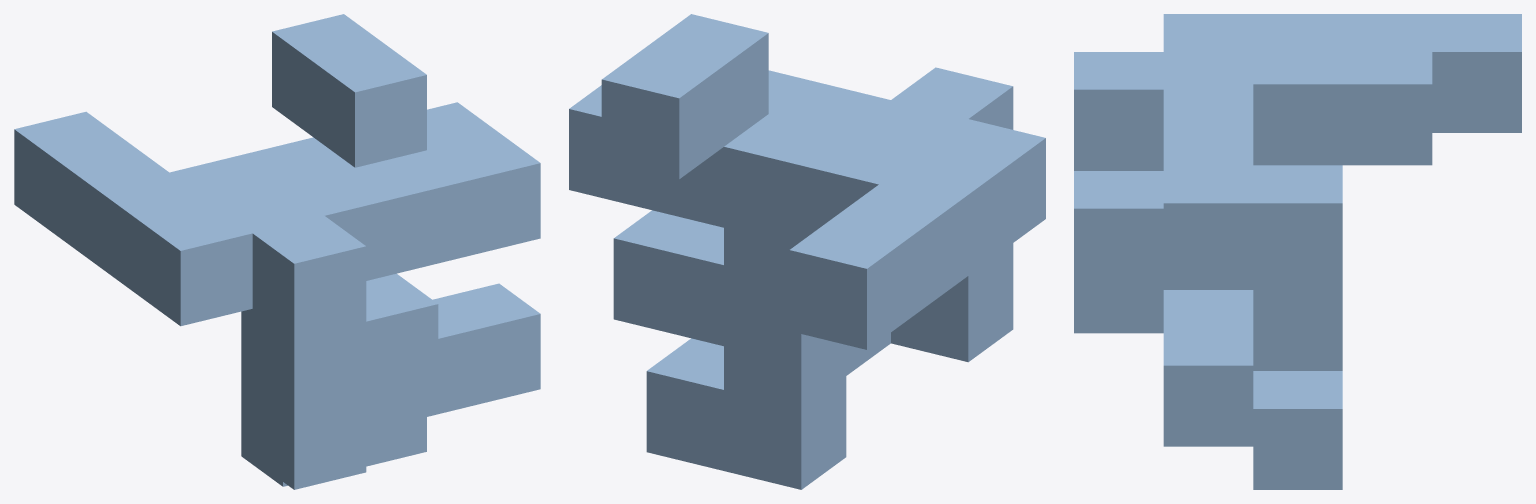
3 renders of one model, left to right at view 1: azimuth 30°, elevation 25°; view 2: azimuth 150°, elevation 25°; view 3: azimuth 270°, elevation 25°, orthographic. The views are drawn at different scales.
Visible parts, largest first — view 1: _changes (2).019; view 2: _changes (2).019; view 3: _changes (2).019.
Part boxes in pixels (box(x1,y1,x2,y2)): _changes (2).019: box(14, 14, 540, 489); _changes (2).019: box(569, 14, 1045, 489); _changes (2).019: box(1074, 14, 1521, 489).
Bounding box in the file's own units: 0.1999 × 0.1999 × 0.1999.
